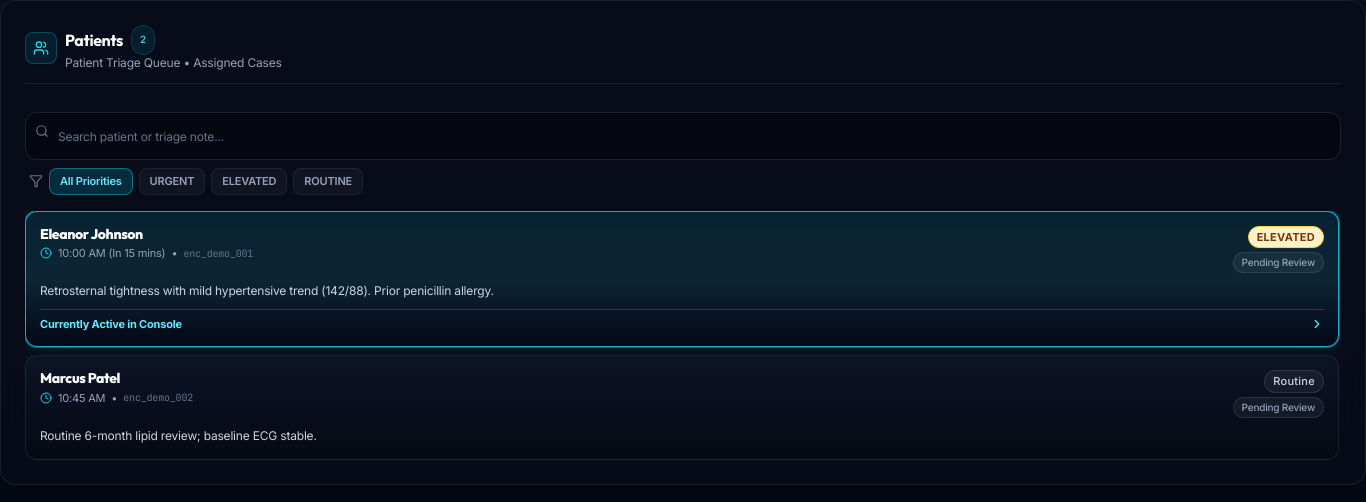
TASK-P1-501: Doctor Console, Briefing UI & Audio Player Suite › 1. DoctorQueueList Component › filters queue items by search text
The width and height of the screenshot is (1366, 502).
Type "Marcus" into the field with test id "queue-search-input" at (683, 136), box [25,112,1341,160]
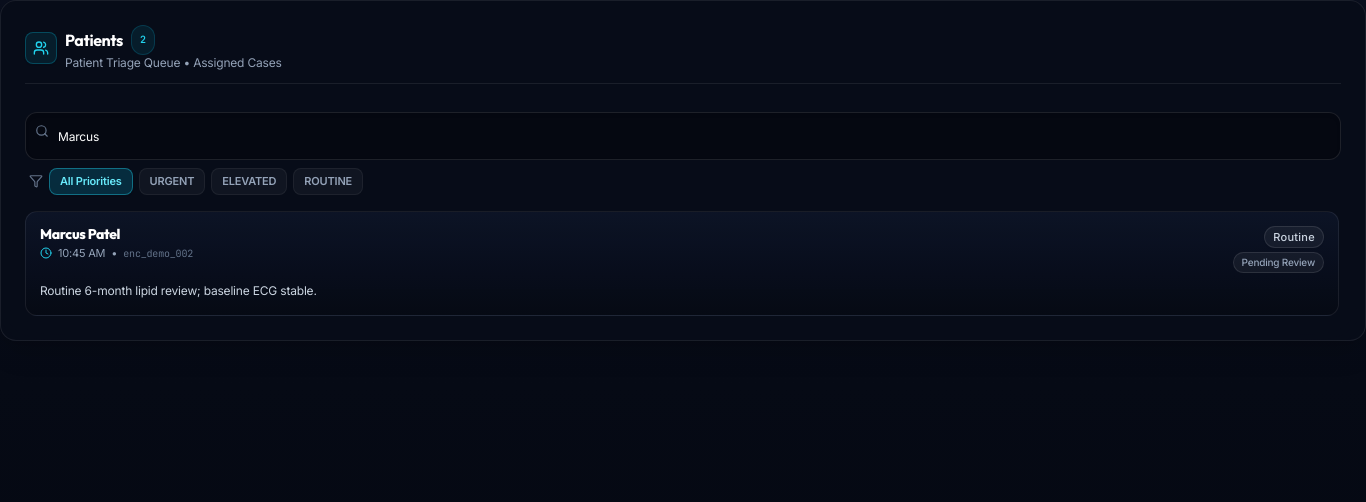
Expected: the heading "Marcus Patel" is shown, [40,224,120,242]
Expected: the heading "Eleanor Johnson" is gone
